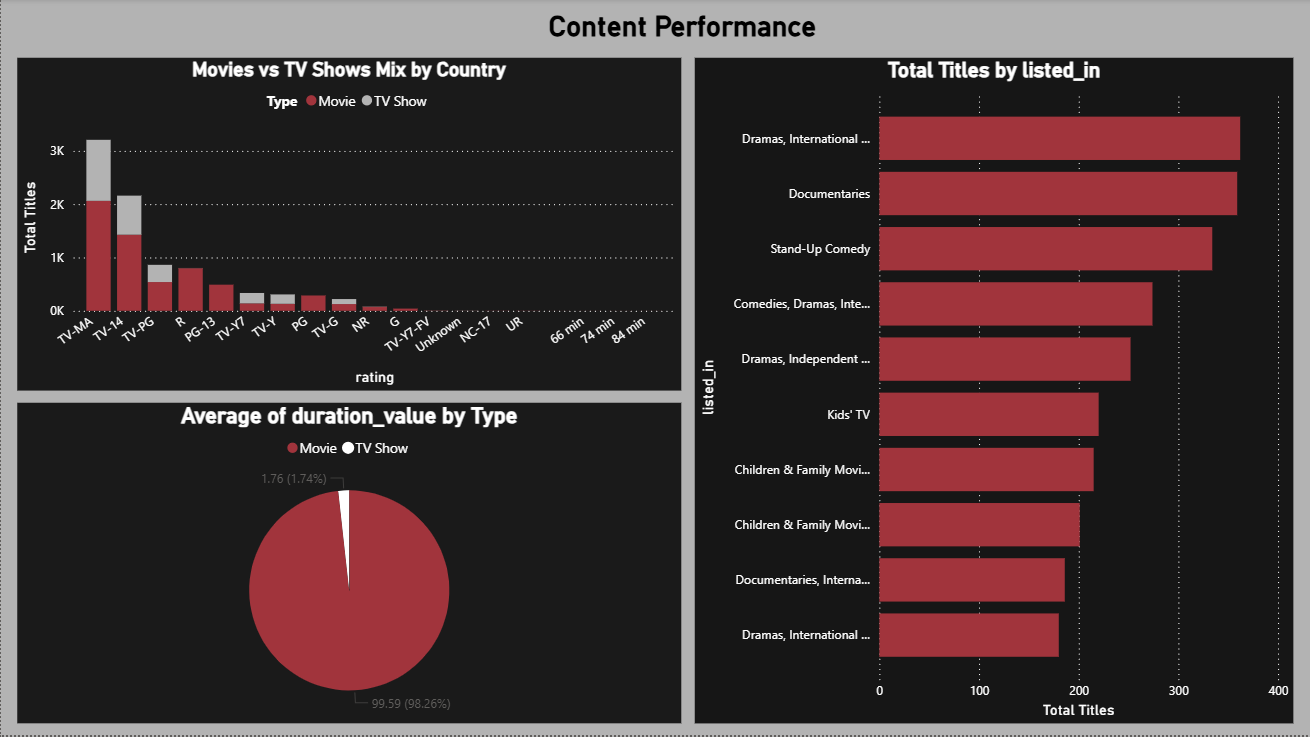

The dashboard page shown, as its layout file describes it:
{"tool":"powerbi","page":{"name":"Content Performance","canvas":[1280,720],"ordinal":2},"visuals":[{"type":"columnChart","title":"Movies vs TV Shows Mix by Country","fields":{"Category":["netflix_dashboard_ready.rating"],"Y":["netflix_dashboard_ready.Total Titles"],"Series":["netflix_dashboard_ready.type"]},"box":[15.9,57.5,649.3,325.3],"z":0},{"type":"pieChart","fields":{"Category":["netflix_dashboard_ready.type"],"Y":["Avg(netflix_dashboard_ready.duration_value)"]},"box":[15.7,394.8,650,313.6],"z":1000},{"type":"clusteredBarChart","fields":{"Category":["netflix_dashboard_ready.listed_in"],"Y":["netflix_dashboard_ready.Total Titles"]},"box":[678.5,57,585.8,651.4],"z":2000},{"type":"textbox","title":"Content Performance","box":[350.6,11.4,631.4,34.2],"z":3000}]}

Visuals, with their boxes in screenshot pixels (x1, y1, x2, y2), scaled from the page's 1280x720 canvas onto the 1310x737 screenshot:
"Movies vs TV Shows Mix by Country" columnChart: [left=16, top=59, right=681, bottom=392]
pieChart - netflix_dashboard_ready.type x Avg(netflix_dashboard_ready.duration_value): [left=16, top=404, right=681, bottom=725]
clusteredBarChart - netflix_dashboard_ready.listed_in x netflix_dashboard_ready.Total Titles: [left=694, top=58, right=1294, bottom=725]
"Content Performance" textbox: [left=359, top=12, right=1005, bottom=47]
